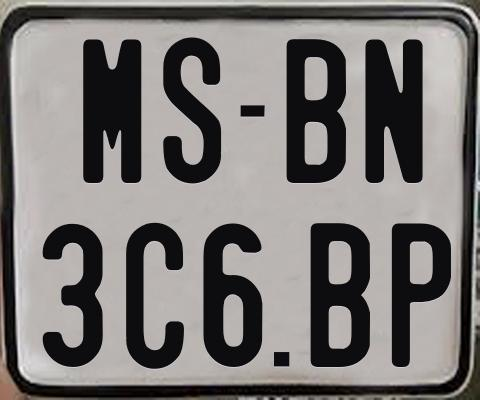3: (41, 224, 101, 371)
6: (202, 221, 268, 369)
B: (307, 223, 373, 373), (286, 36, 347, 186)
C: (124, 221, 187, 367)
M: (83, 39, 141, 186)
N: (365, 38, 426, 185)
P: (392, 222, 453, 369)
S: (163, 34, 222, 181)
